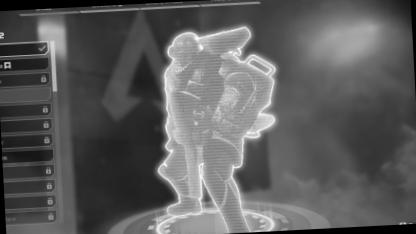Target: (151, 22, 279, 202)
